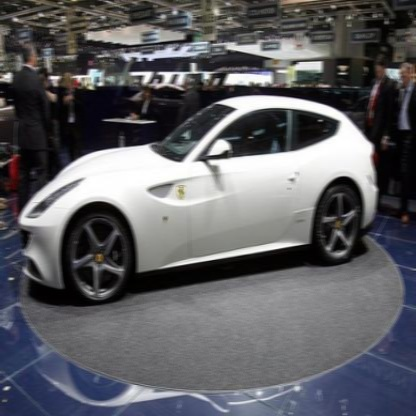Vehicle: (17, 94, 378, 307)
